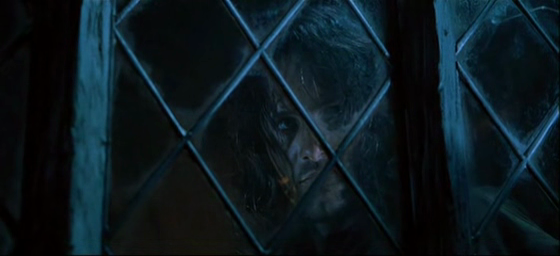cu: (1, 1, 560, 256)
face: (250, 60, 377, 223)
person: (232, 1, 392, 256)
